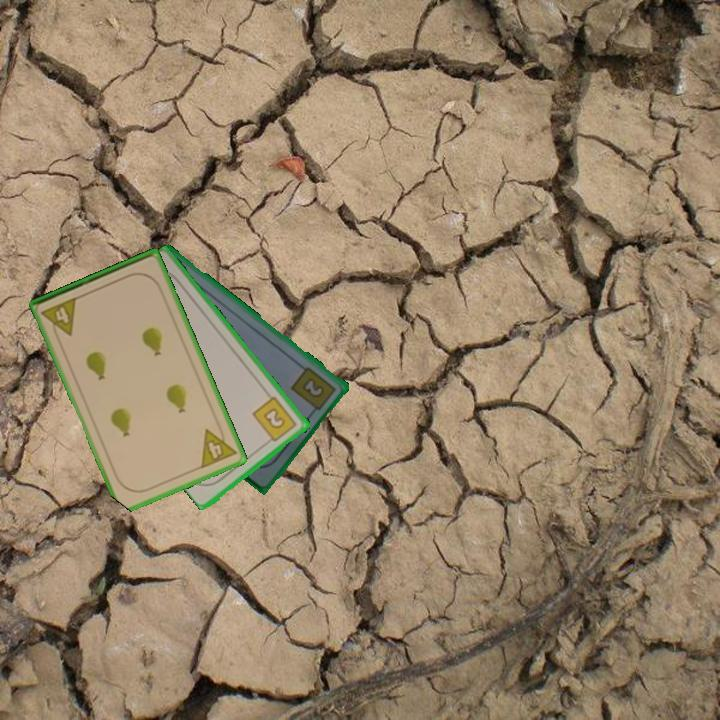2b: (288, 363, 339, 416), (249, 393, 300, 446)
4p: (197, 421, 239, 471), (38, 294, 80, 343)
